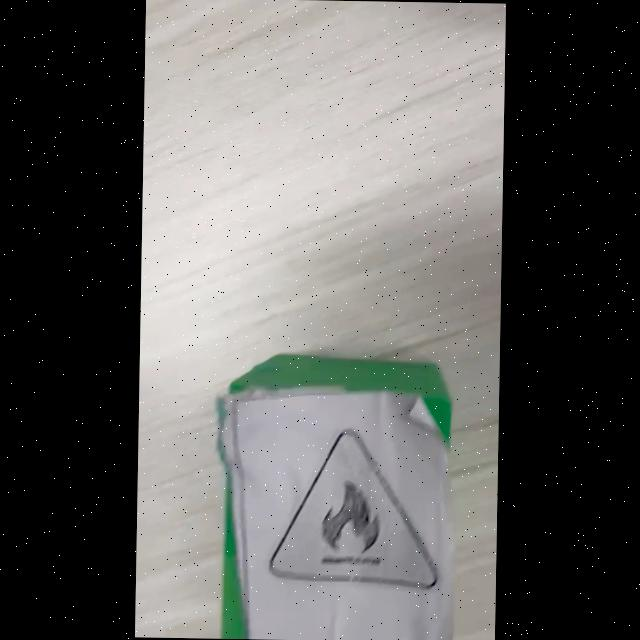Fire: (269, 429, 436, 589)
